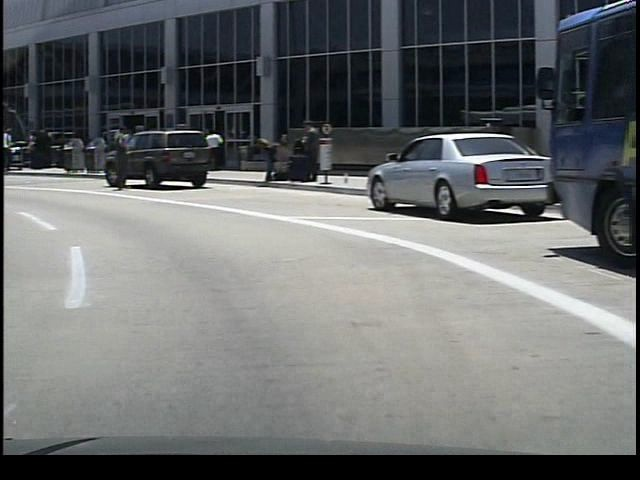person: (102, 116, 131, 198), (254, 130, 283, 184), (294, 119, 315, 185), (198, 126, 220, 173)
